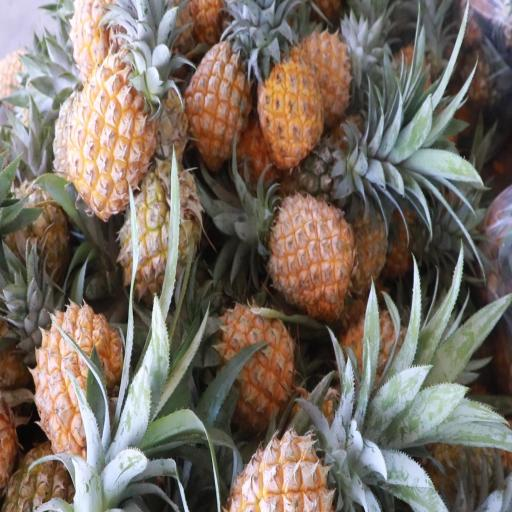------------------------------: (119, 164, 196, 294)
Pineapple - v8 v1: (68, 49, 154, 207), (33, 302, 118, 457), (222, 416, 334, 512), (266, 199, 351, 313), (214, 308, 296, 418), (182, 35, 251, 158), (259, 56, 325, 164)
